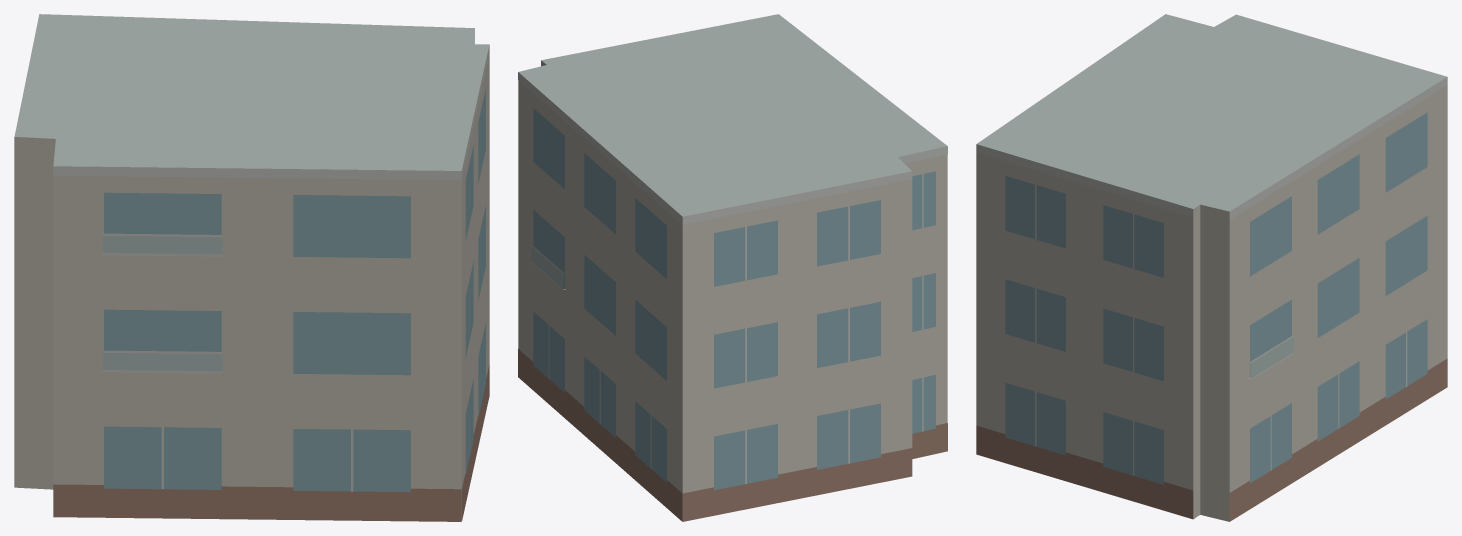
File: survey-upis-32660900.glb
3 views of the same model, side by side, from view 1: azimuth 30°, elevation 25°; view 2: azimuth 150°, elevation 25°; view 3: azimuth 270°, elevation 25° (orthographic). The views are drawn at different scales.
Parts seen in each view (by area): view 1: survey-upis-32660900.tmp; view 2: survey-upis-32660900.tmp; view 3: survey-upis-32660900.tmp.
Part boxes in pixels (left/top/right/bottom): survey-upis-32660900.tmp: left=14, top=14, right=489, bottom=521; survey-upis-32660900.tmp: left=518, top=14, right=947, bottom=521; survey-upis-32660900.tmp: left=976, top=14, right=1447, bottom=521.
Bounding box in the file's own units: 12.5 × 9.15 × 12.6.
